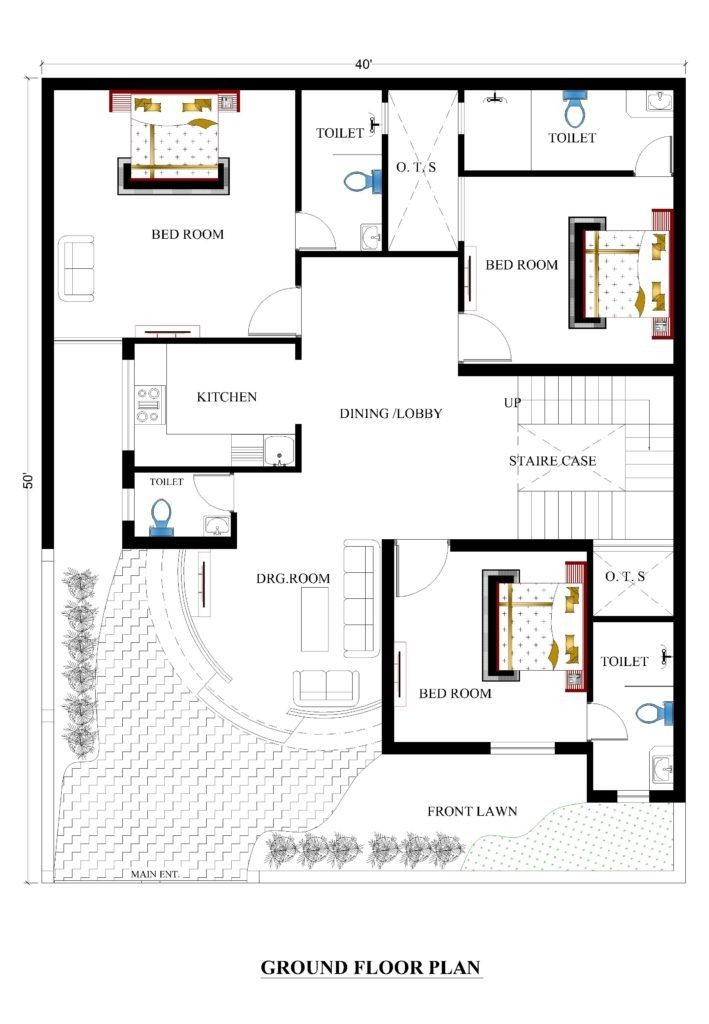door: (387, 539, 462, 611), (239, 283, 305, 338), (572, 689, 631, 749), (455, 310, 512, 363), (631, 127, 675, 186), (284, 210, 342, 253)
room: (19, 353, 675, 560), (298, 74, 672, 375), (31, 55, 309, 360), (370, 536, 678, 800)
wall: (658, 72, 690, 800), (25, 75, 69, 557), (51, 64, 684, 88), (123, 449, 297, 492), (465, 355, 673, 389), (375, 538, 400, 758), (450, 161, 639, 188), (114, 339, 301, 366), (289, 239, 472, 261), (559, 747, 615, 810), (581, 549, 603, 700), (290, 80, 312, 214), (108, 527, 244, 547), (590, 611, 687, 639), (450, 533, 584, 552), (398, 738, 487, 758), (453, 132, 470, 164)
window: (120, 363, 145, 444), (492, 730, 553, 758), (108, 489, 145, 525), (611, 772, 653, 803)
